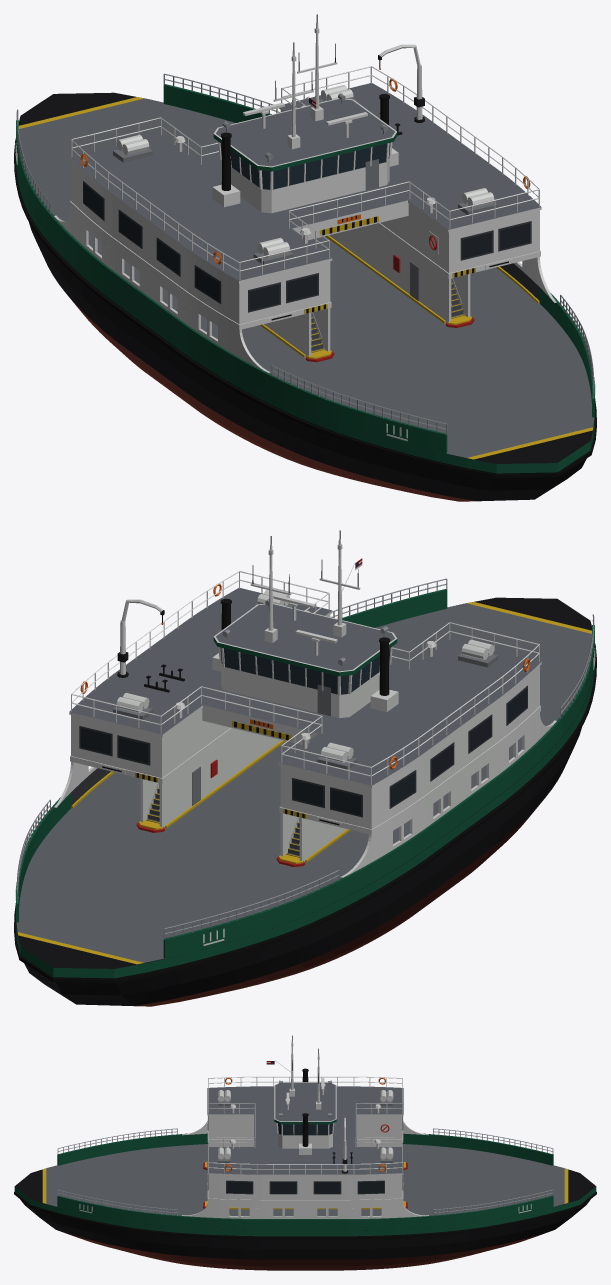
The model's file is hiyu_mid.glb.
The picture shows the model from 3 angles, top to bottom: view 1: azimuth 30°, elevation 25°; view 2: azimuth 150°, elevation 25°; view 3: azimuth 270°, elevation 25°; orthographic projection. The views are drawn at different scales.
Parts seen in each view (by area): view 1: fixed, thinshadow, window, glass; view 2: fixed, thinshadow, window, glass; view 3: fixed, thinshadow, window, glass.
Boxes of the visible parts, <box> form: fixed: <box>14,23,596,501</box>; thinshadow: <box>16,14,594,434</box>; window: <box>83,183,529,310</box>; glass: <box>220,143,390,189</box>; fixed: <box>14,539,596,1006</box>; thinshadow: <box>16,530,594,939</box>; window: <box>81,688,527,815</box>; glass: <box>220,647,390,694</box>; fixed: <box>14,1040,596,1270</box>; thinshadow: <box>57,1035,553,1215</box>; window: <box>227,1181,383,1193</box>; glass: <box>278,1123,332,1135</box>.
Size of the model in its own units: 19.48 by 19.2 by 53.12.
